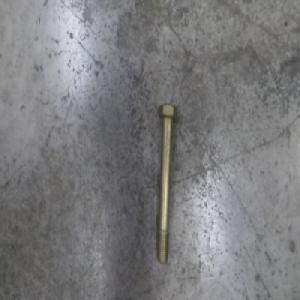Bolt: (156, 100, 177, 264)
